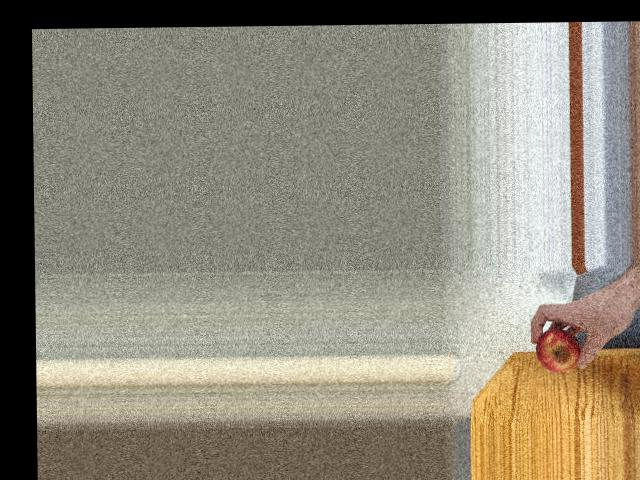apple: (535, 331, 582, 372)
